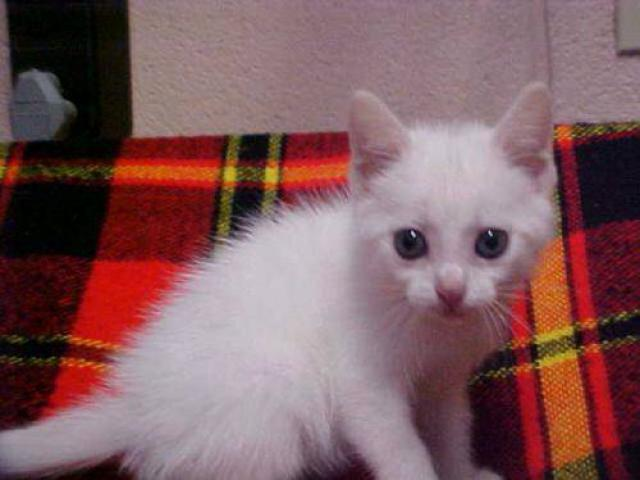cat: (14, 85, 579, 476)
